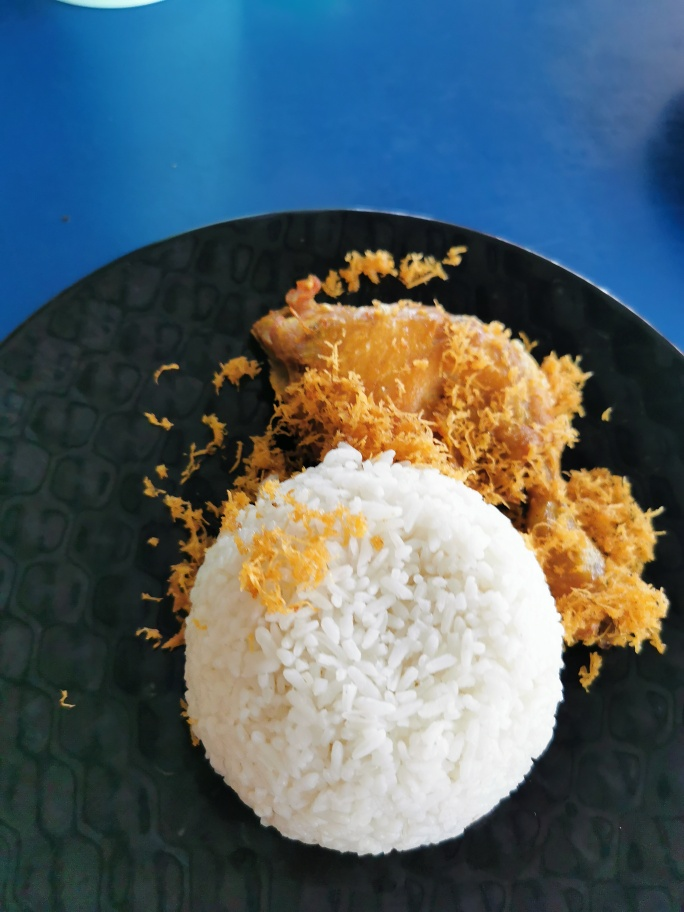ayam goreng: (237, 253, 660, 675)
nasi putih: (190, 455, 569, 856)
